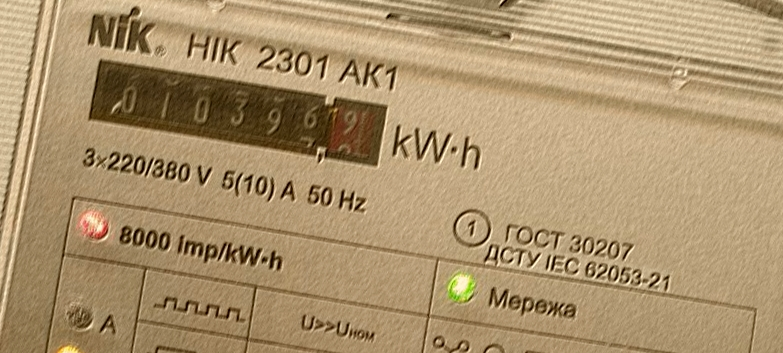0: (190, 90, 216, 126), (118, 79, 142, 115)
1: (158, 85, 176, 120)
3: (229, 93, 251, 128)
6: (300, 99, 325, 131)
9: (262, 102, 286, 137), (338, 106, 363, 138)
screen: (73, 43, 402, 181)
